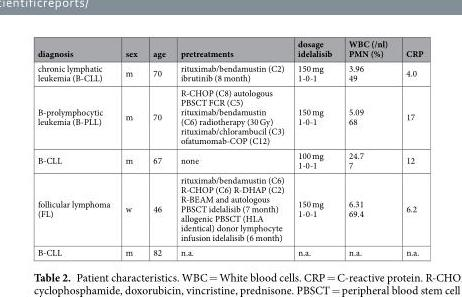table: (36, 37, 422, 257)
table column: (172, 37, 290, 257), (36, 37, 117, 257), (339, 37, 396, 257), (290, 37, 339, 257), (144, 37, 172, 257), (117, 37, 144, 257), (396, 37, 422, 257)
table column header: (36, 37, 422, 60)
table row: (36, 172, 422, 244), (36, 84, 422, 147), (36, 147, 422, 172), (36, 60, 422, 84), (36, 37, 422, 60), (36, 244, 422, 257)
